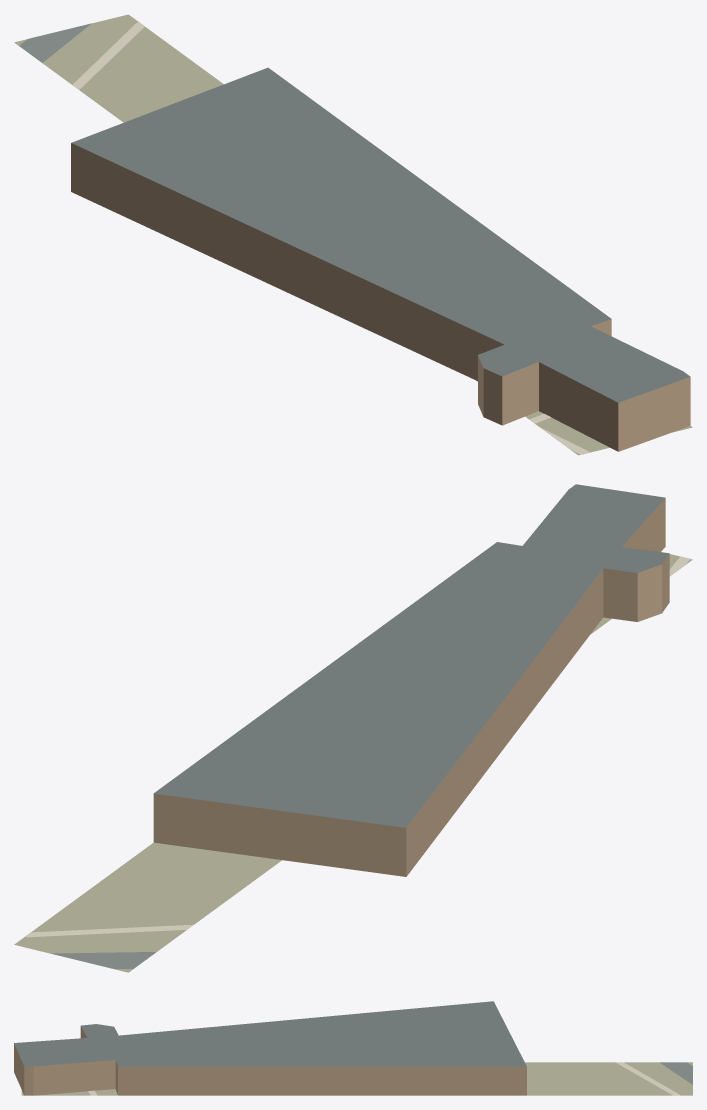
The model's file is sector-3_-5.glb.
3 renders of one model, top to bottom at view 1: azimuth 30°, elevation 25°; view 2: azimuth 150°, elevation 25°; view 3: azimuth 270°, elevation 25°, orthographic. The views are drawn at different scales.
Visible parts, largest first — view 1: 3:-5-roof, 3:-5-facade, 3:-5-ground, 3:-5-paving, 3:-5-road; view 2: 3:-5-roof, 3:-5-facade, 3:-5-ground, 3:-5-road, 3:-5-paving; view 3: 3:-5-roof, 3:-5-facade, 3:-5-ground, 3:-5-road, 3:-5-paving.
Part boxes in pixels (bbox=[...]): 3:-5-roof: bbox=[71, 67, 690, 402]; 3:-5-facade: bbox=[71, 143, 690, 451]; 3:-5-ground: bbox=[14, 14, 692, 455]; 3:-5-paving: bbox=[72, 22, 589, 454]; 3:-5-road: bbox=[19, 23, 91, 62]; 3:-5-roof: bbox=[154, 484, 669, 827]; 3:-5-facade: bbox=[153, 498, 669, 876]; 3:-5-ground: bbox=[14, 552, 692, 972]; 3:-5-road: bbox=[52, 952, 156, 969]; 3:-5-paving: bbox=[25, 556, 690, 937]; 3:-5-roof: bbox=[14, 1001, 526, 1066]; 3:-5-facade: bbox=[14, 1026, 526, 1095]; 3:-5-ground: bbox=[21, 1062, 692, 1095]; 3:-5-road: bbox=[659, 1062, 692, 1084]; 3:-5-paving: bbox=[88, 1062, 680, 1095].
Bounding box in the file's own units: 46.04 × 9.6 × 202.
